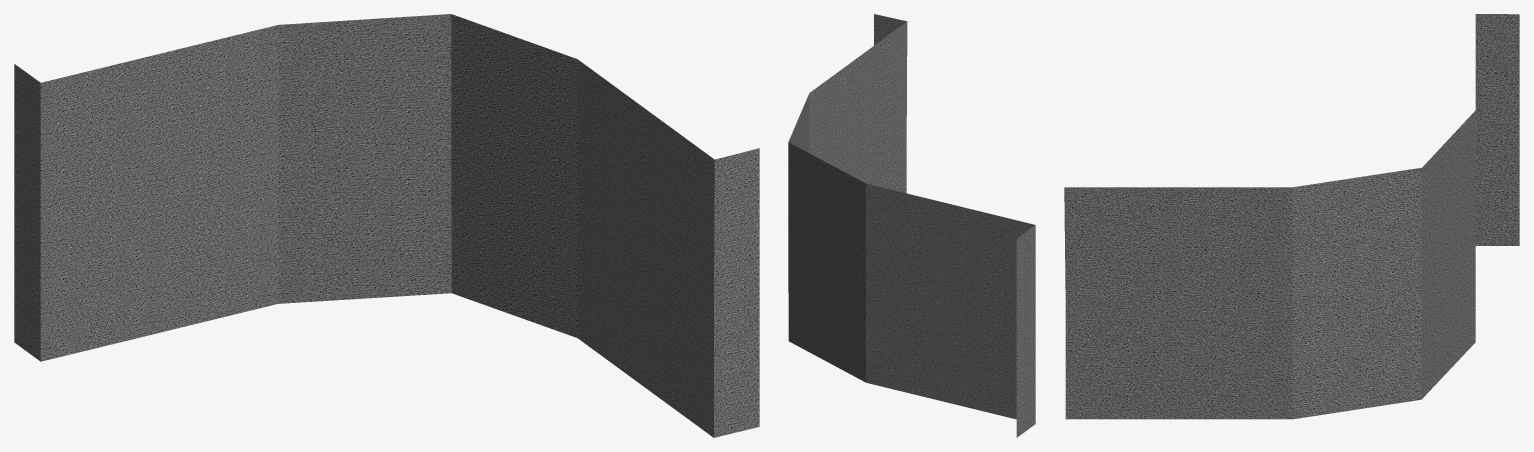
File: Building_Overhang_Lower.dae
3 views of the same model, side by side, from view 1: azimuth 30°, elevation 25°; view 2: azimuth 150°, elevation 25°; view 3: azimuth 270°, elevation 25° (orthographic). The views are drawn at different scales.
Parts seen in each view (by area): view 1: Buiding_Overhang_Lower; view 2: Buiding_Overhang_Lower; view 3: Buiding_Overhang_Lower.
Boxes of the visible parts, bbox=[...] form: Buiding_Overhang_Lower: bbox=[14, 14, 759, 437]; Buiding_Overhang_Lower: bbox=[788, 14, 1035, 437]; Buiding_Overhang_Lower: bbox=[1064, 14, 1519, 419].
Bounding box in the file's own units: 45.04 × 25.41 × 45.17.
